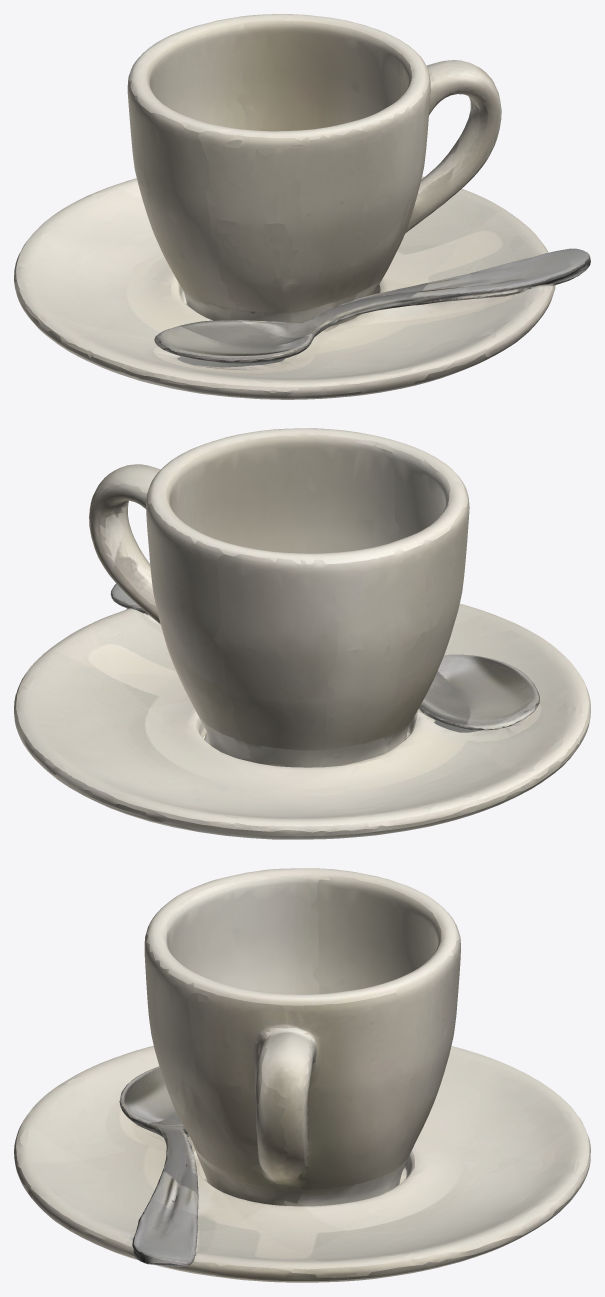
Rendered from coffee-set.glb.
The picture shows the model from 3 angles, top to bottom: view 1: azimuth 30°, elevation 25°; view 2: azimuth 150°, elevation 25°; view 3: azimuth 270°, elevation 25°; orthographic projection. The views are drawn at different scales.
Visible parts, largest first — view 1: geometry_0; view 2: geometry_0; view 3: geometry_0.
Part boxes in pixels (x1,y1,x2,y2): geometry_0: (14,14,590,399); geometry_0: (14,428,590,839); geometry_0: (14,868,590,1282).
Size of the model in its own units: 0.085 by 0.0412 by 0.085.
1 material, 1 textured.
